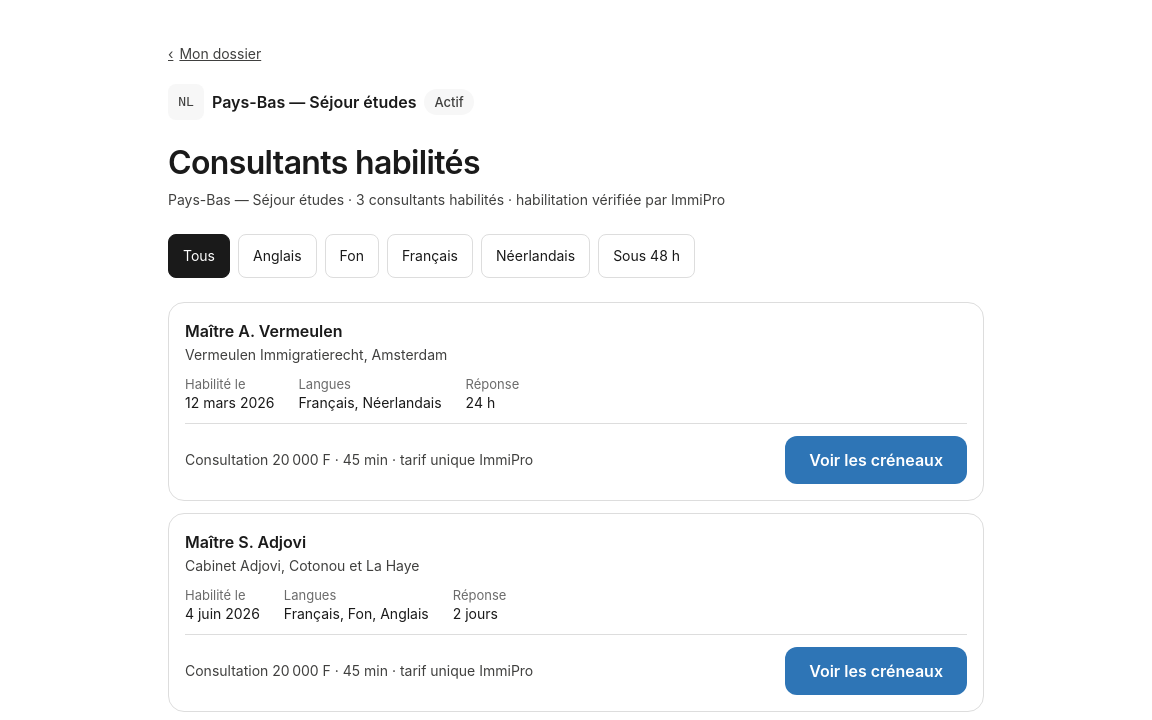
T-04 — Annuaire › filtre par langue, et le filtre se retire
Step 1. Click the button "Fon" → click(352, 256), box top-left (325, 234), bottom-right (379, 278)
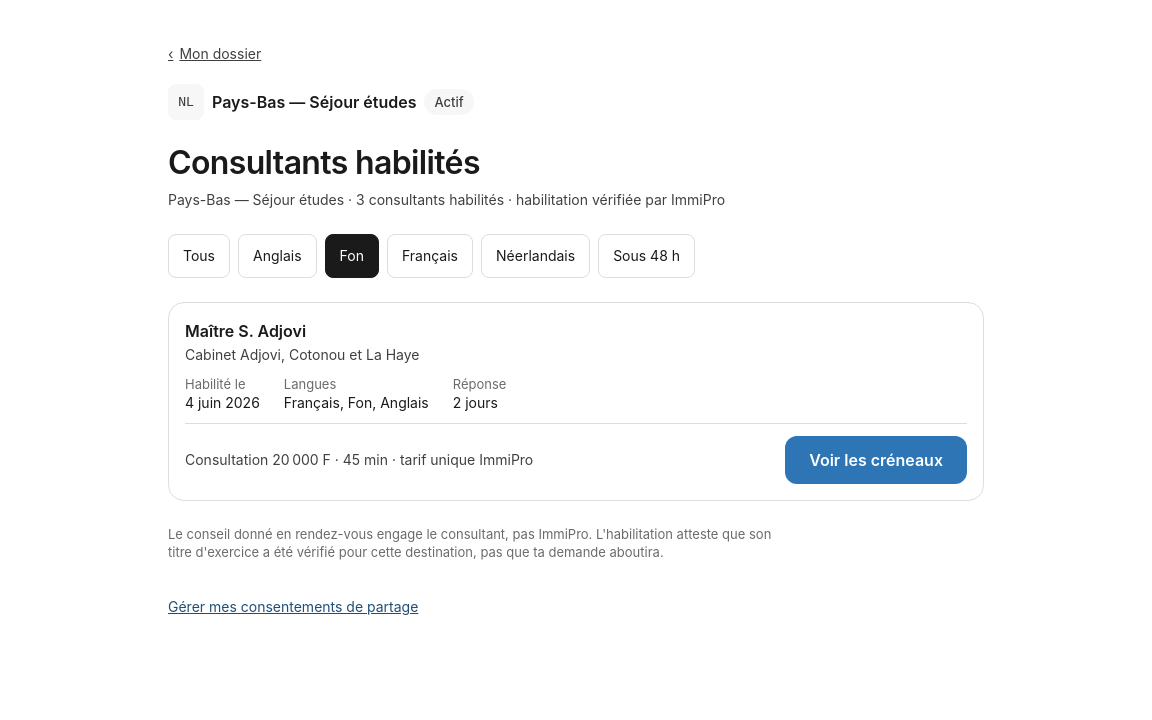
Result: the number of links "Voir les créneaux" is 1 at top-left (785, 436), bottom-right (967, 484)
Step 2. Click the button "Fon" → click(352, 256), box top-left (325, 234), bottom-right (379, 278)
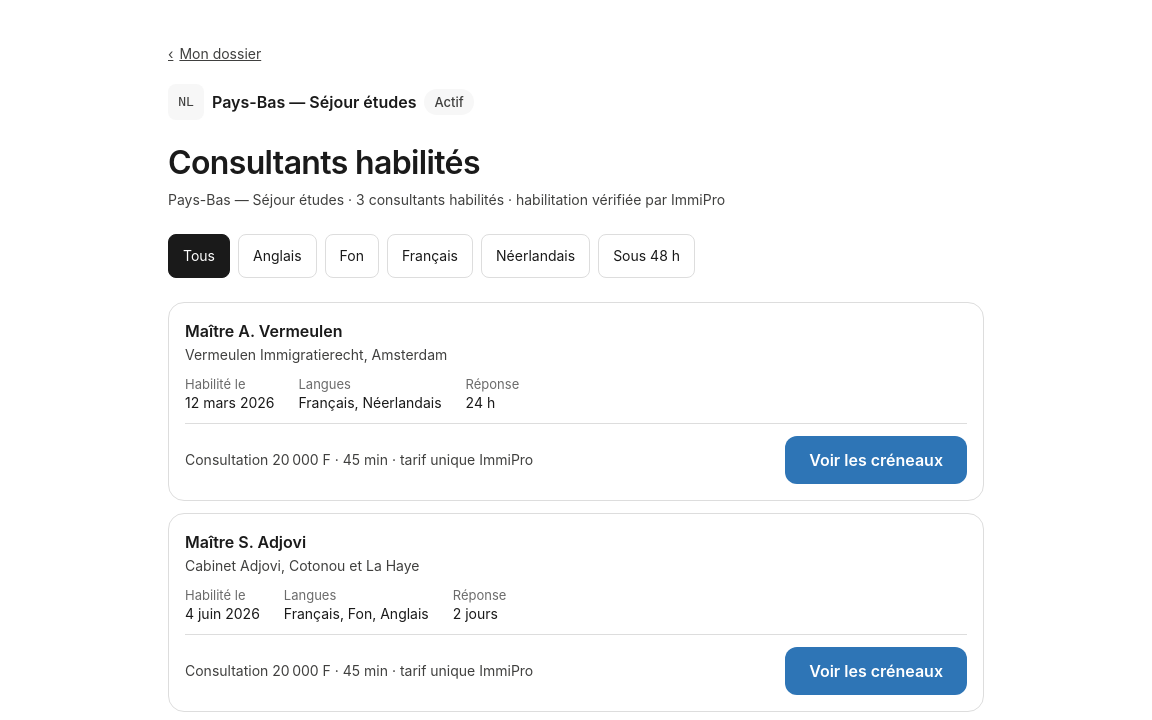
Result: the number of links "Voir les créneaux" is 3
